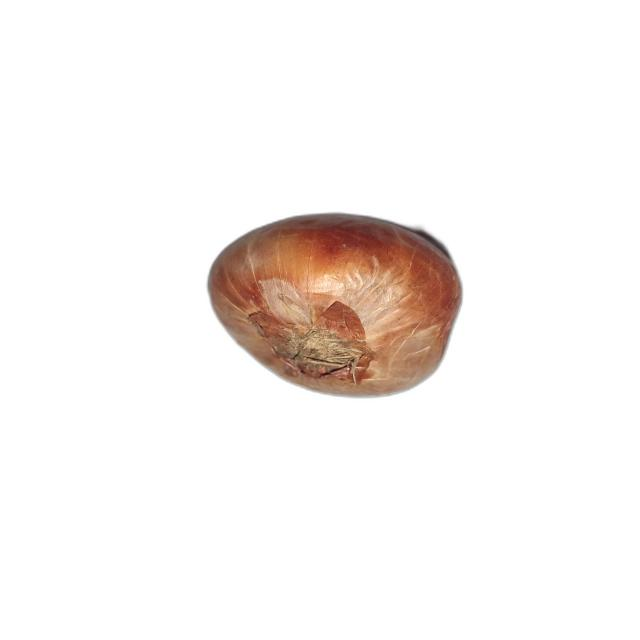onion: (206, 212, 464, 398)
